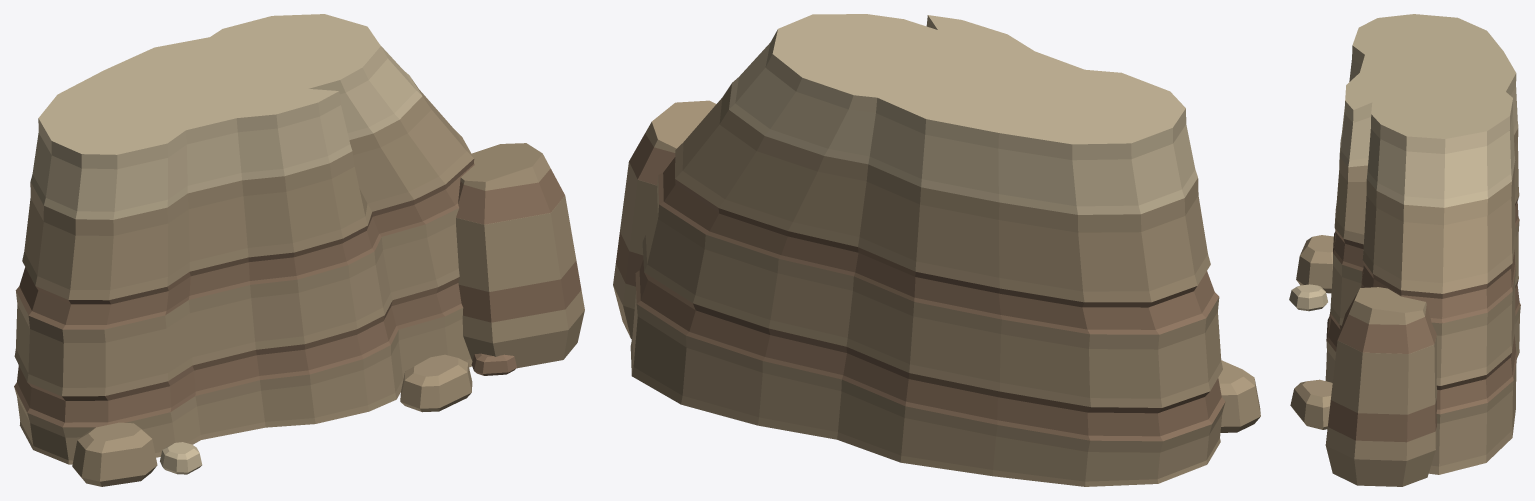
File: stratified-cliff.glb
The picture shows the model from 3 angles, left to right: view 1: azimuth 30°, elevation 25°; view 2: azimuth 150°, elevation 25°; view 3: azimuth 270°, elevation 25°; orthographic projection. The views are drawn at different scales.
Parts seen in each view (by area): view 1: Bed_06_resistant_sandstone, Bed_05_resistant_sandstone, Bed_03_resistant_sandstone, Right_fractured_buttress, Bed_01_resistant_sandstone, Bed_02_recessed_mudstone, Bed_04_recessed_mudstone, Talus_front_left, Talus_right_slab, Talus_left_chip, Talus_right_chip; view 2: Bed_06_resistant_sandstone, Bed_05_resistant_sandstone, Bed_03_resistant_sandstone, Bed_01_resistant_sandstone, Bed_02_recessed_mudstone, Bed_04_recessed_mudstone, Right_fractured_buttress, Talus_front_left; view 3: Bed_06_resistant_sandstone, Right_fractured_buttress, Bed_05_resistant_sandstone, Bed_03_resistant_sandstone, Bed_01_resistant_sandstone, Bed_04_recessed_mudstone, Bed_02_recessed_mudstone, Talus_front_left, Talus_right_slab, Talus_left_chip.
Part boxes in pixels (box(x1,y1,x2,y2)): Bed_06_resistant_sandstone: box(30, 14, 422, 219); Bed_05_resistant_sandstone: box(22, 79, 473, 300); Bed_03_resistant_sandstone: box(14, 208, 459, 396); Right_fractured_buttress: box(456, 143, 584, 368); Bed_01_resistant_sandstone: box(14, 308, 472, 464); Bed_02_recessed_mudstone: box(14, 277, 462, 427); Bed_04_recessed_mudstone: box(16, 159, 474, 329); Talus_front_left: box(72, 422, 157, 486); Talus_right_slab: box(400, 354, 472, 412); Talus_left_chip: box(160, 442, 202, 474); Talus_right_chip: box(471, 353, 517, 375); Bed_06_resistant_sandstone: box(729, 14, 1197, 214); Bed_05_resistant_sandstone: box(675, 83, 1210, 302); Bed_03_resistant_sandstone: box(642, 176, 1222, 407); Bed_01_resistant_sandstone: box(630, 291, 1225, 486); Bed_02_recessed_mudstone: box(635, 260, 1225, 441); Bed_04_recessed_mudstone: box(658, 157, 1219, 334); Right_fractured_buttress: box(613, 100, 716, 339); Talus_front_left: box(1218, 360, 1260, 432); Bed_06_resistant_sandstone: box(1339, 14, 1518, 207); Right_fractured_buttress: box(1325, 287, 1437, 486); Bed_05_resistant_sandstone: box(1334, 128, 1519, 293); Bed_03_resistant_sandstone: box(1330, 220, 1519, 385); Bed_01_resistant_sandstone: box(1325, 305, 1520, 474); Bed_04_recessed_mudstone: box(1333, 197, 1519, 323); Bed_02_recessed_mudstone: box(1326, 279, 1520, 414); Talus_front_left: box(1296, 235, 1333, 293); Talus_right_slab: box(1290, 379, 1332, 429); Talus_left_chip: box(1289, 284, 1327, 311).
Bounding box in the file's own units: 4.53 × 2.59 × 1.95.
